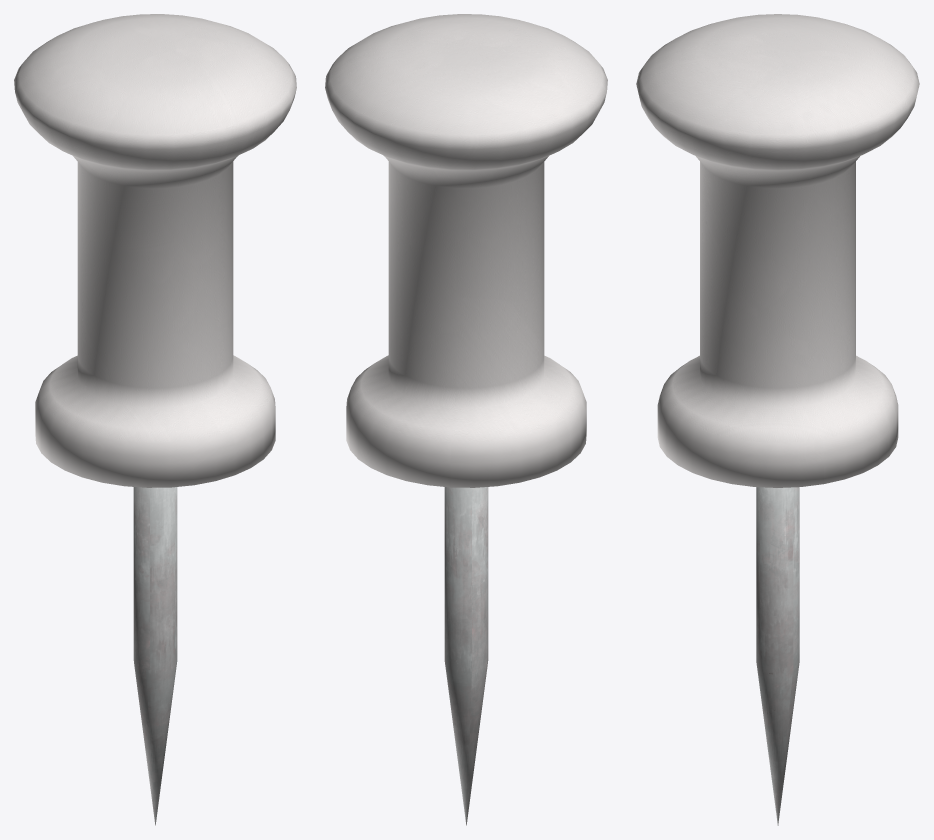
The model's file is Pin Needle.fbx.
3 renders of one model, left to right at view 1: azimuth 30°, elevation 25°; view 2: azimuth 150°, elevation 25°; view 3: azimuth 270°, elevation 25°, orthographic.
Parts seen in each view (by area): view 1: PinHead, PinNeedle; view 2: PinHead, PinNeedle; view 3: PinHead, PinNeedle.
Boxes of the visible parts, left/top/right/bottom form: PinHead: left=14, top=14, right=296, bottom=487; PinNeedle: left=133, top=487, right=177, bottom=825; PinHead: left=325, top=14, right=607, bottom=487; PinNeedle: left=444, top=487, right=488, bottom=825; PinHead: left=636, top=14, right=919, bottom=487; PinNeedle: left=756, top=487, right=799, bottom=825.
Size of the model in its own units: 0.7565 by 2.29 by 0.7565.
